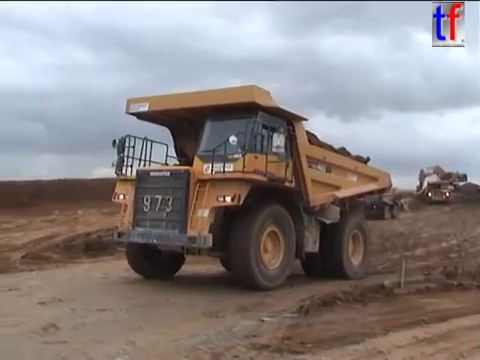excavator: (413, 164, 468, 195)
truck: (107, 82, 395, 292), (360, 182, 402, 221), (423, 180, 453, 205)
